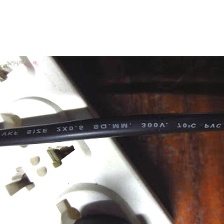three_eye_plug: (0, 46, 182, 223)
